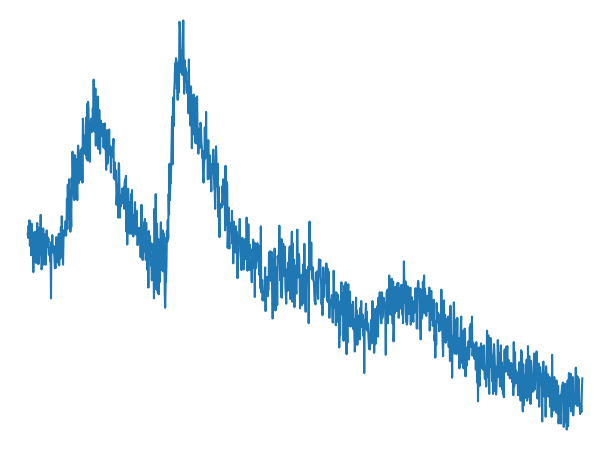increase: (150, 191, 176, 313), (50, 216, 77, 280)
